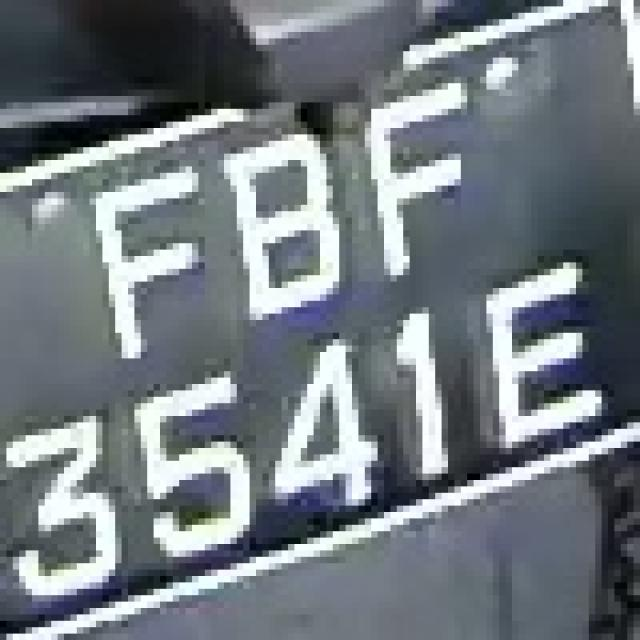1: (390, 263, 454, 532)
3: (0, 410, 128, 608)
4: (236, 333, 378, 525)
5: (115, 365, 262, 557)
B: (205, 115, 371, 333)
E: (468, 250, 614, 467)
F: (64, 134, 224, 390), (346, 83, 506, 307)
